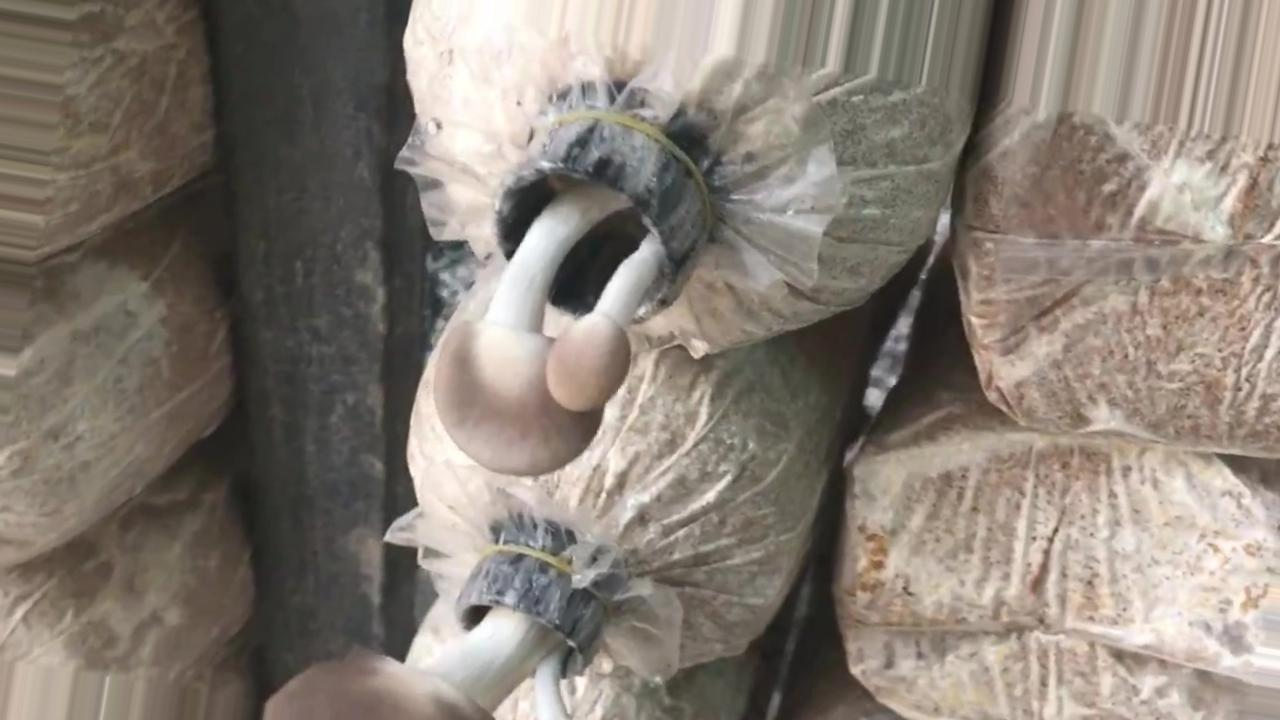nam: (434, 117, 702, 474), (265, 551, 595, 719)
